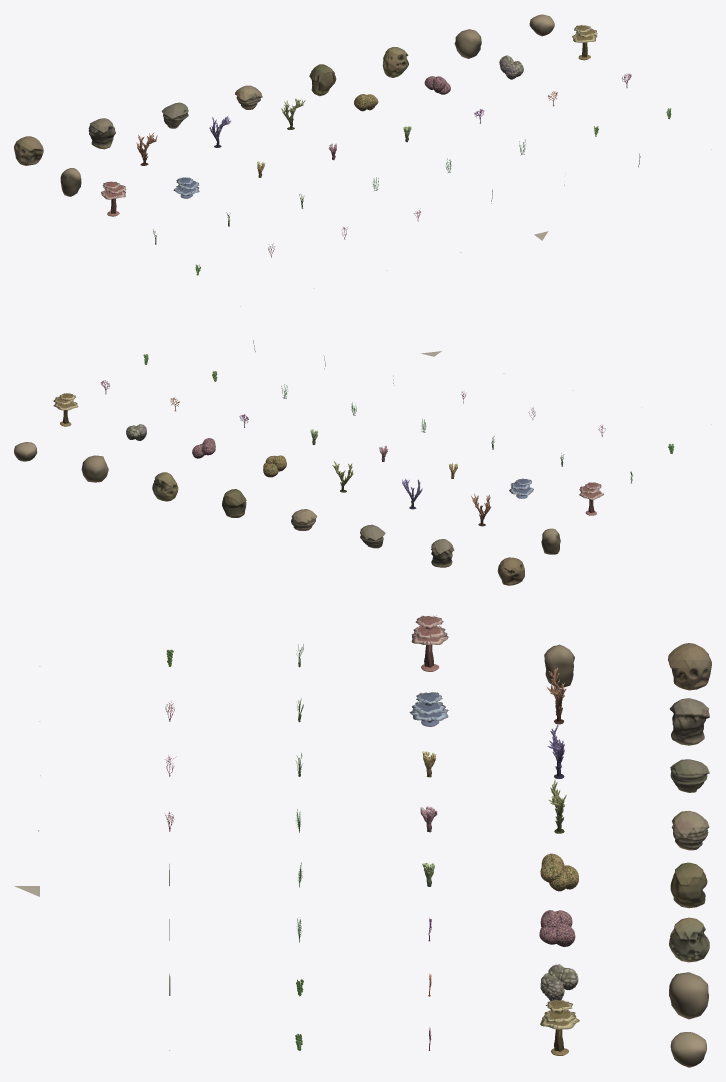
File: reef-environment.glb
The picture shows the model from 3 angles, top to bottom: view 1: azimuth 30°, elevation 25°; view 2: azimuth 150°, elevation 25°; view 3: azimuth 270°, elevation 25°; orthographic projection. The views are drawn at different scales.
Visible parts, largest first — view 1: Rock_0, Rock_1, Rock_5, Pebble_0, Rock_4, Rock_2, Coral_Plate_1, Pebble_2, Coral_Plate_0, Rock_3; view 2: Rock_0, Rock_5, Pebble_0, Rock_4, Rock_1, Rock_2, Rock_3, Coral_Plate_0, Coral_Plate_1, Pebble_2, Coral_Massive_0; view 3: Rock_0, Pebble_0, Rock_1, Rock_5, Rock_4, Rock_3, Coral_Plate_1, Coral_Plate_0, Coral_Massive_1, Coral_Massive_0, Pebble_1, Pebble_2 (+3 smaller).
Boxes of the visible parts, x1,y1,x2,y2 form: Rock_0: (14, 136, 43, 165); Rock_1: (88, 118, 115, 149); Rock_5: (382, 47, 408, 77); Pebble_0: (454, 29, 481, 58); Rock_4: (309, 64, 336, 96); Rock_2: (161, 102, 188, 128); Coral_Plate_1: (101, 181, 126, 216); Pebble_2: (60, 168, 81, 196); Coral_Plate_0: (572, 25, 597, 60); Rock_3: (235, 85, 262, 109); Rock_0: (497, 557, 524, 585); Rock_5: (152, 472, 178, 501); Pebble_0: (81, 455, 108, 482); Rock_4: (222, 489, 246, 517); Rock_1: (431, 539, 454, 567); Rock_2: (360, 524, 385, 548); Rock_3: (291, 509, 316, 530); Coral_Plate_0: (53, 393, 78, 426); Coral_Plate_1: (579, 482, 603, 515); Pebble_2: (541, 528, 560, 554); Coral_Massive_0: (263, 455, 286, 477); Rock_0: (668, 643, 711, 690); Pebble_0: (669, 972, 708, 1019); Rock_1: (669, 698, 709, 745); Rock_5: (669, 917, 709, 962); Rock_4: (670, 862, 707, 908); Rock_3: (671, 811, 709, 850); Coral_Plate_1: (411, 615, 448, 671); Coral_Plate_0: (540, 999, 579, 1055); Coral_Massive_1: (539, 910, 575, 946); Coral_Massive_0: (540, 853, 578, 891); Pebble_1: (670, 1032, 706, 1067); Pebble_2: (544, 644, 574, 687).
Size of what is drawn, in the model's own units: 36.64 by 3.04 by 26.88.
Materials: 7 (7 with a texture image).
